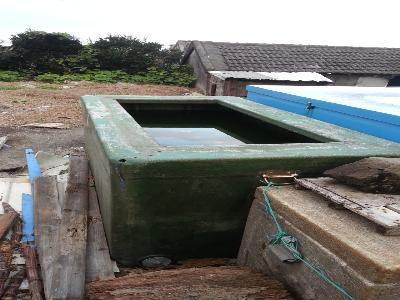box: (78, 93, 400, 267)
